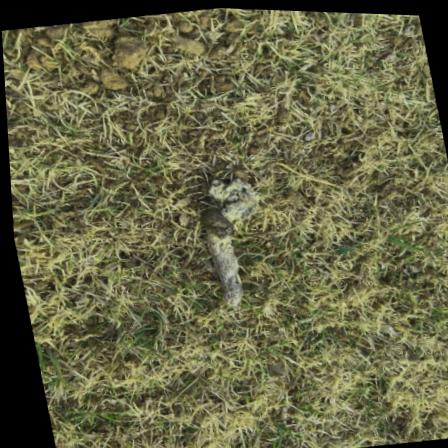dog-poop: (177, 161, 278, 311)
